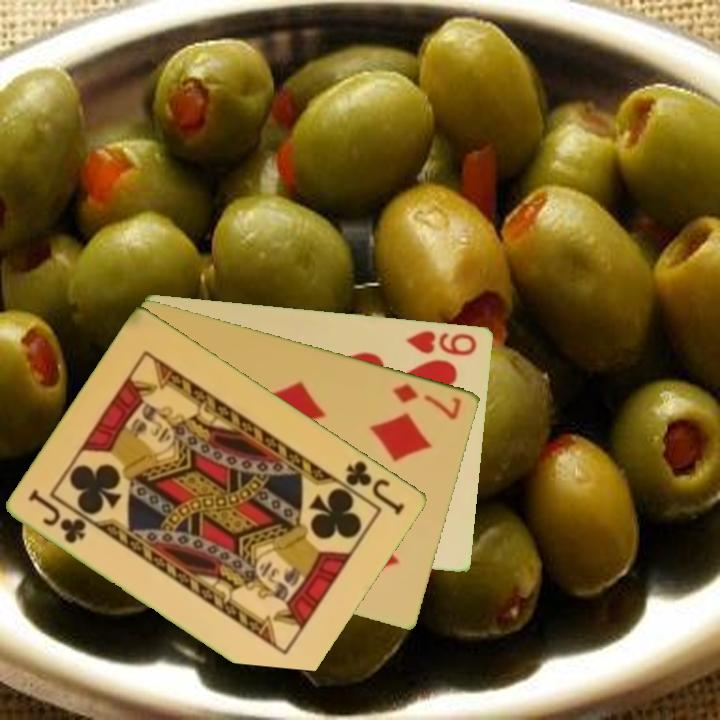7d: (389, 380, 465, 423)
9h: (403, 327, 480, 358)
Jc: (342, 456, 409, 518), (25, 485, 90, 547)
